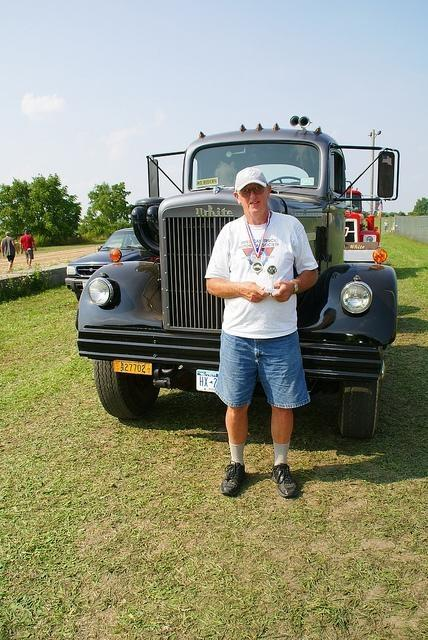car: (62, 228, 152, 292)
truck: (69, 126, 401, 434)
